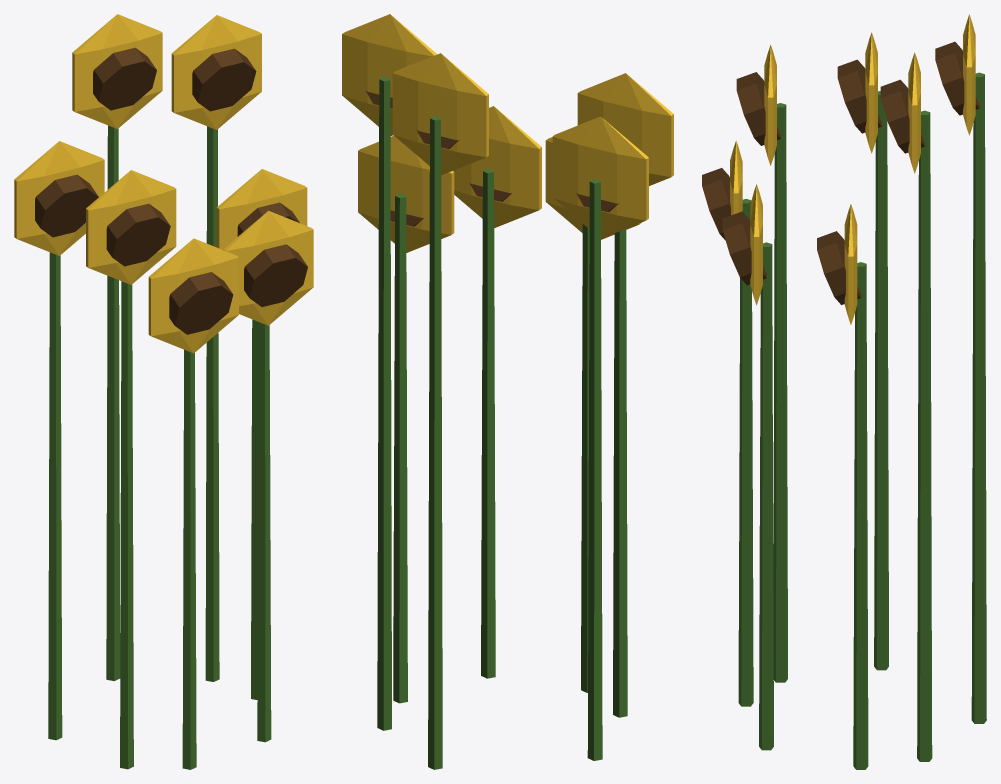
Rendered from sunflowers.glb.
3 views of the same model, side by side, from view 1: azimuth 30°, elevation 25°; view 2: azimuth 150°, elevation 25°; view 3: azimuth 270°, elevation 25° (orthographic). The views are drawn at different scales.
Parts seen in each view (by area): view 1: sunflowers; view 2: sunflowers; view 3: sunflowers.
Boxes of the visible parts, box(x1,y1,x2,y2) form: sunflowers: box(14, 14, 313, 769); sunflowers: box(342, 14, 673, 769); sunflowers: box(702, 14, 986, 769).
Bounding box in the file's own units: 0.8674 × 1.97 × 0.7184.
